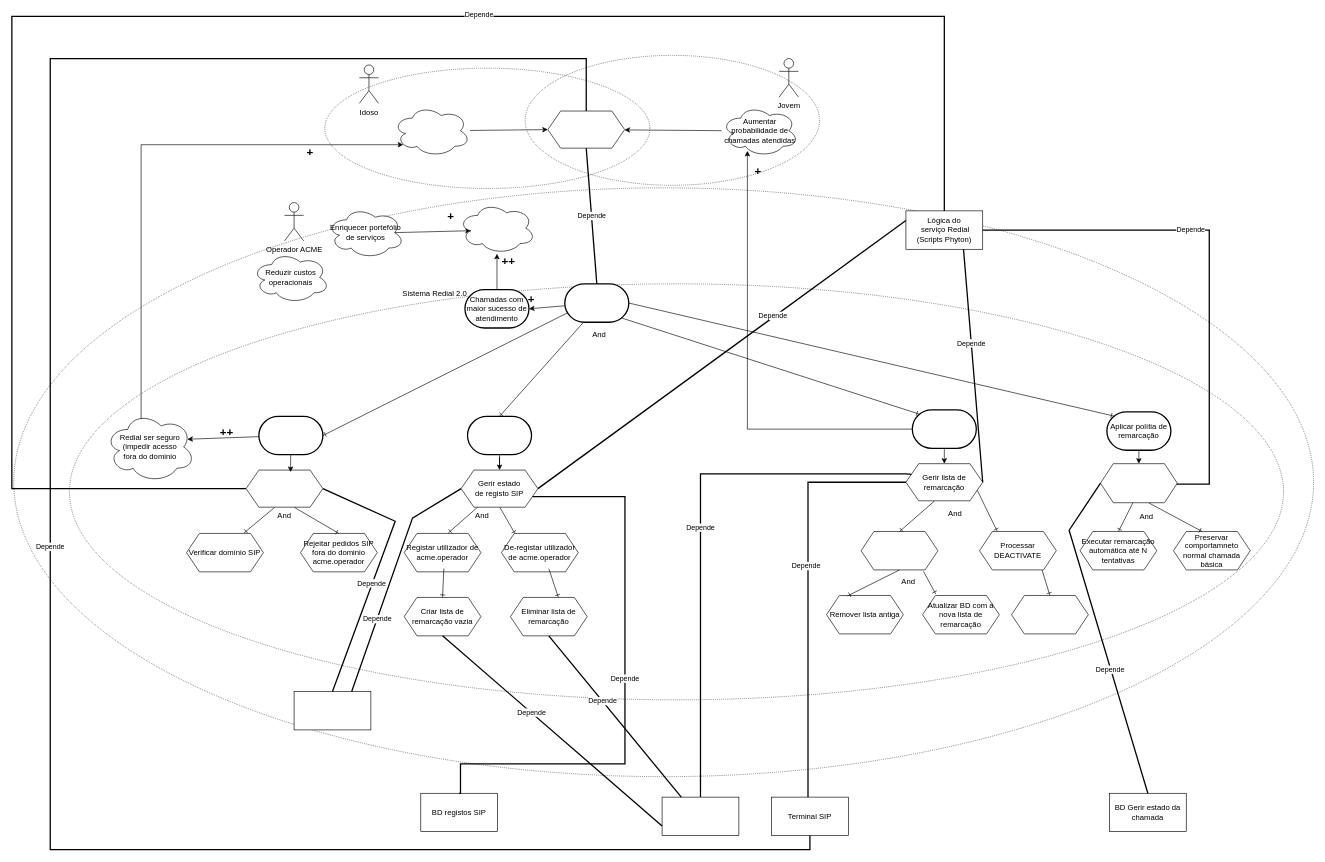
The diagram is 1325 pixels wide and 862 high, and some of its shapes have lost their labels. Each missing label, with the centre of its shape:
Aumentar confiança em chamadas de emergência: point (431, 130)
Aumentar lucros: point (496, 228)
BD de listas de remarcação: point (700, 816)
Controlar acesso à operadora: point (284, 488)
Disponibilizar Serviço Redial 2.0: point (596, 303)
Esvaziar lista de remarcação: point (1049, 614)
Gerir acessos: point (290, 435)
Gerir serviço Redial: point (944, 429)
Gerir utilizador: point (499, 435)
Permitir remarcação: point (1138, 483)
Processar ACTIVE user1 user2 ...: point (899, 550)
Servidor SIP da operadora ACME (Kamailio): point (332, 710)
Usar Redial: point (586, 129)
